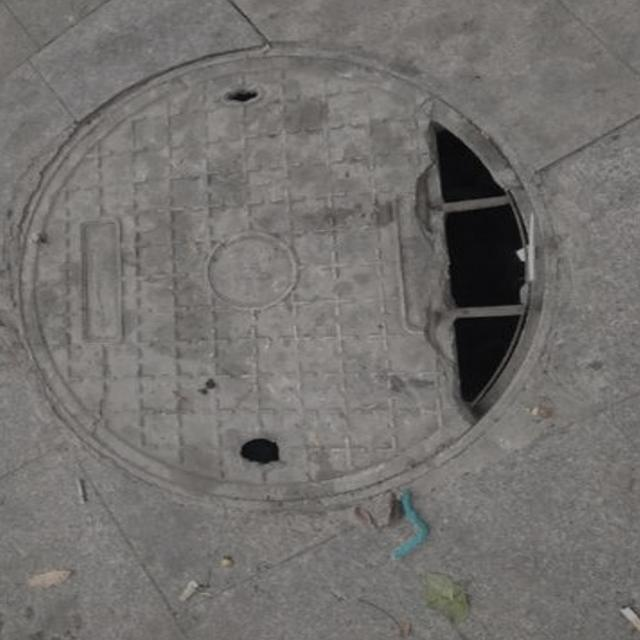broke: (0, 18, 582, 530)
